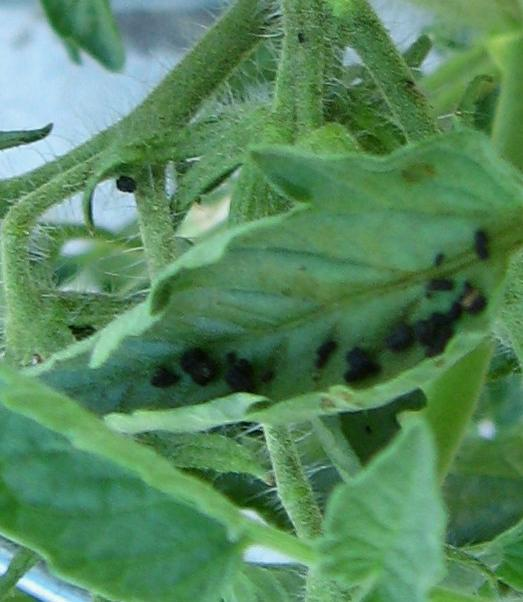Tomato leaf: (0, 271, 273, 602)
